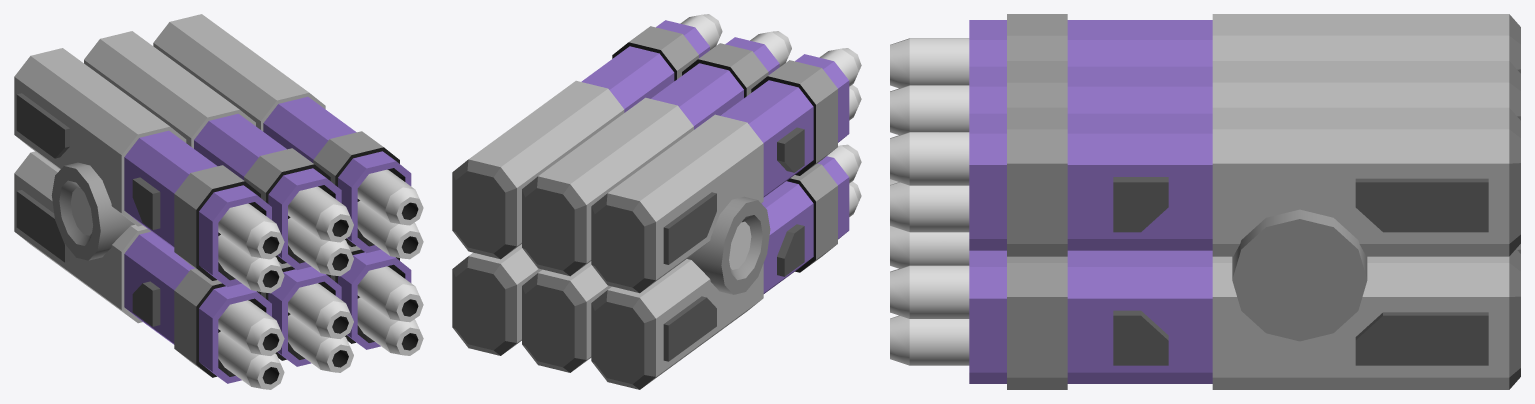
Rendered from turret_009.fbx.
3 views of the same model, side by side, from view 1: azimuth 30°, elevation 25°; view 2: azimuth 150°, elevation 25°; view 3: azimuth 270°, elevation 25° (orthographic). The views are drawn at different scales.
Parts seen in each view (by area): view 1: turret_009; view 2: turret_009; view 3: turret_009.
Boxes of the visible parts, bbox=[...] form: turret_009: bbox=[14, 14, 423, 389]; turret_009: bbox=[452, 14, 861, 389]; turret_009: bbox=[890, 14, 1520, 389].
Size of the model in its own units: 283 by 483 by 220.
